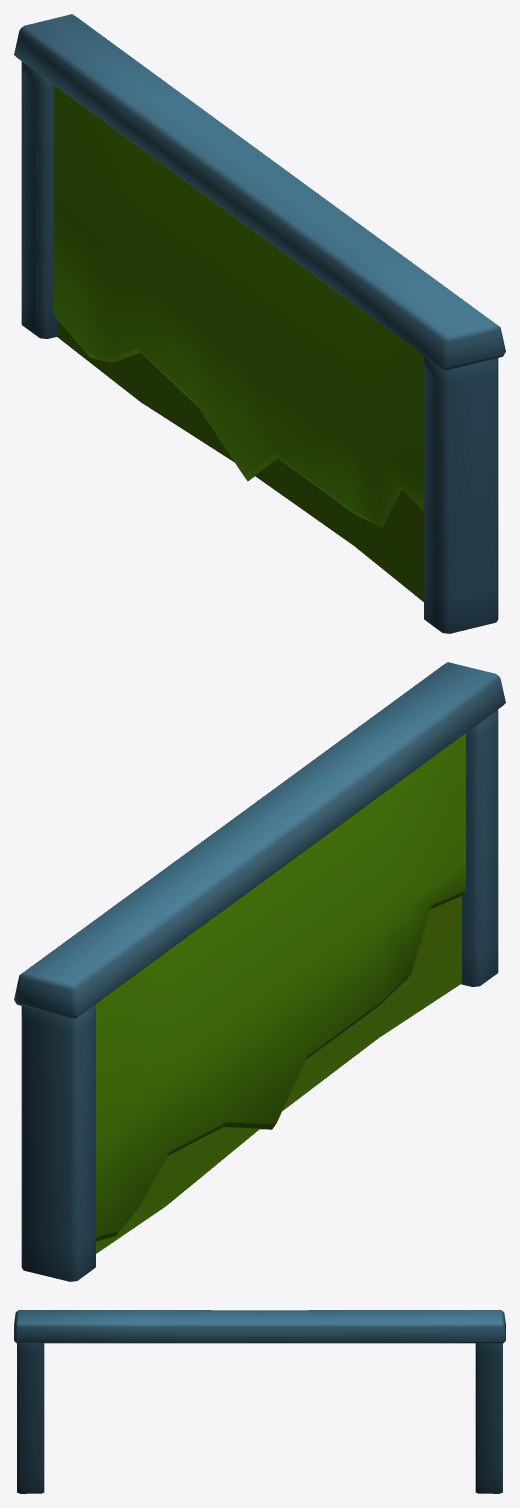
Rendered from PlasteredWall02Night.glb.
3 renders of one model, top to bottom at view 1: azimuth 30°, elevation 25°; view 2: azimuth 150°, elevation 25°; view 3: azimuth 270°, elevation 25°, orthographic. The views are drawn at different scales.
Visible parts, largest first — view 1: PlasteredWall02Night; view 2: PlasteredWall02Night; view 3: PlasteredWall02Night.
Part boxes in pixels (x1,y1,x2,y2): PlasteredWall02Night: (14,14,505,633); PlasteredWall02Night: (14,662,505,1281); PlasteredWall02Night: (14,1310,505,1493).
Bounding box in the file's own units: 0.7885 × 3.54 × 9.12.
3 materials, 2 textured.
